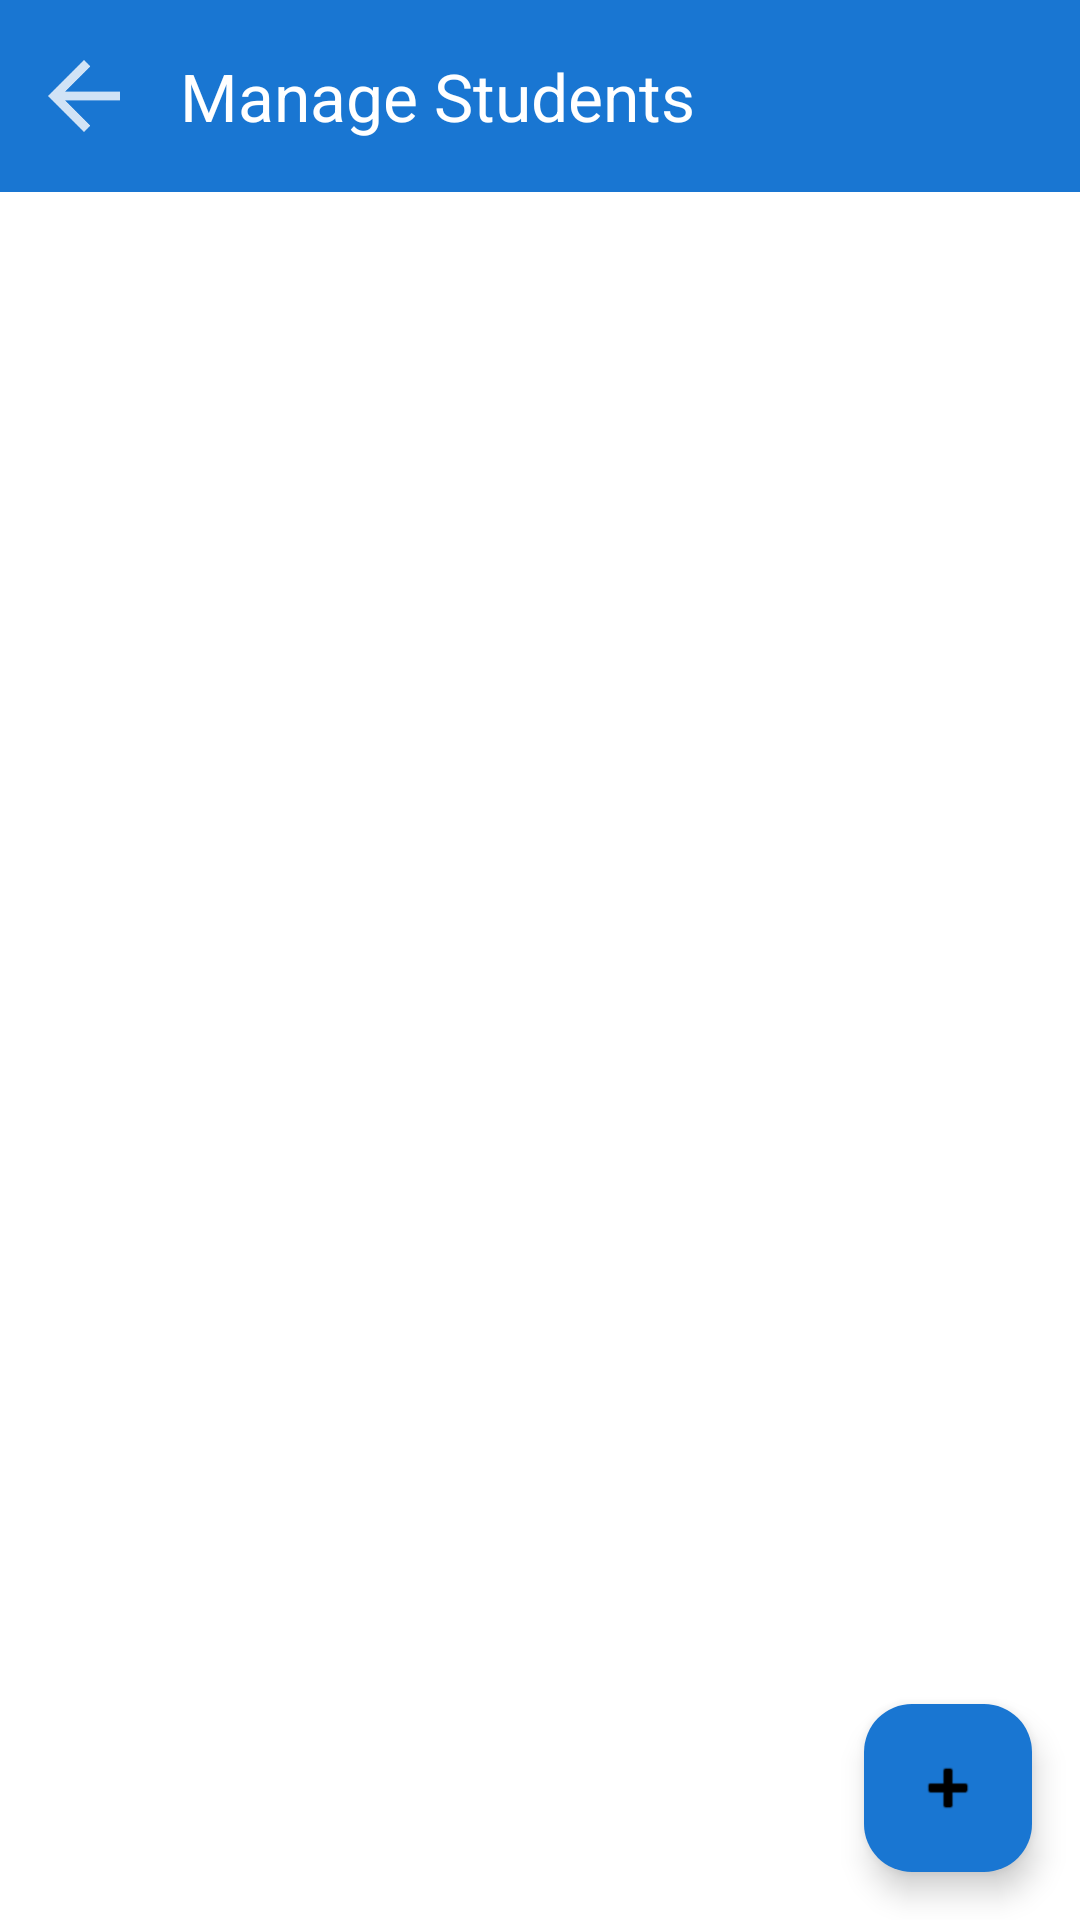

Point at icon controls on the screen. Image size 1080 × 1920, points as (x,y).
Add Student: (948,1788)
